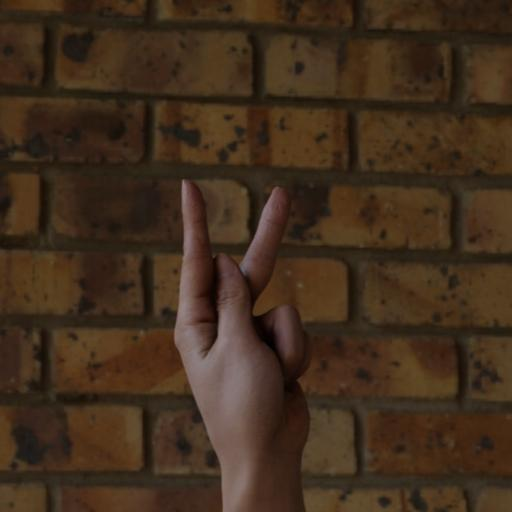K: (159, 177, 363, 470)
